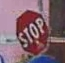stop: (15, 7, 49, 55)
